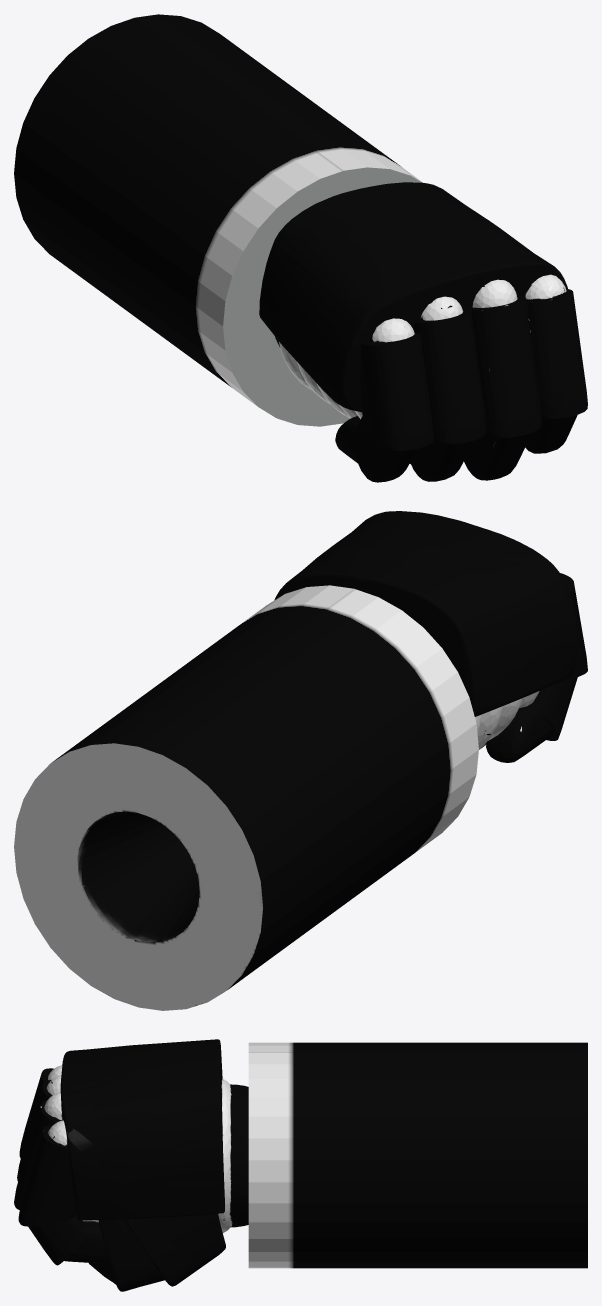
The model's file is Rfist.obj.
The picture shows the model from 3 angles, top to bottom: view 1: azimuth 30°, elevation 25°; view 2: azimuth 150°, elevation 25°; view 3: azimuth 270°, elevation 25°; orthographic projection. The views are drawn at different scales.
Visible parts, largest first — view 1: 圓柱體, t_hand_-__1; view 2: 圓柱體, t_hand_-__1; view 3: 圓柱體, t_hand_-__1.
Boxes of the visible parts, box(x1,y1,x2,y2) form: 圓柱體: box(14, 14, 423, 426); t_hand_-__1: box(259, 182, 587, 482); 圓柱體: box(14, 585, 478, 1010); t_hand_-__1: box(274, 511, 587, 762); 圓柱體: box(248, 1042, 587, 1268); t_hand_-__1: box(14, 1039, 248, 1291).
Bounding box in the file's own units: 1 × 1 × 2.54.
2 materials, 2 textured.
